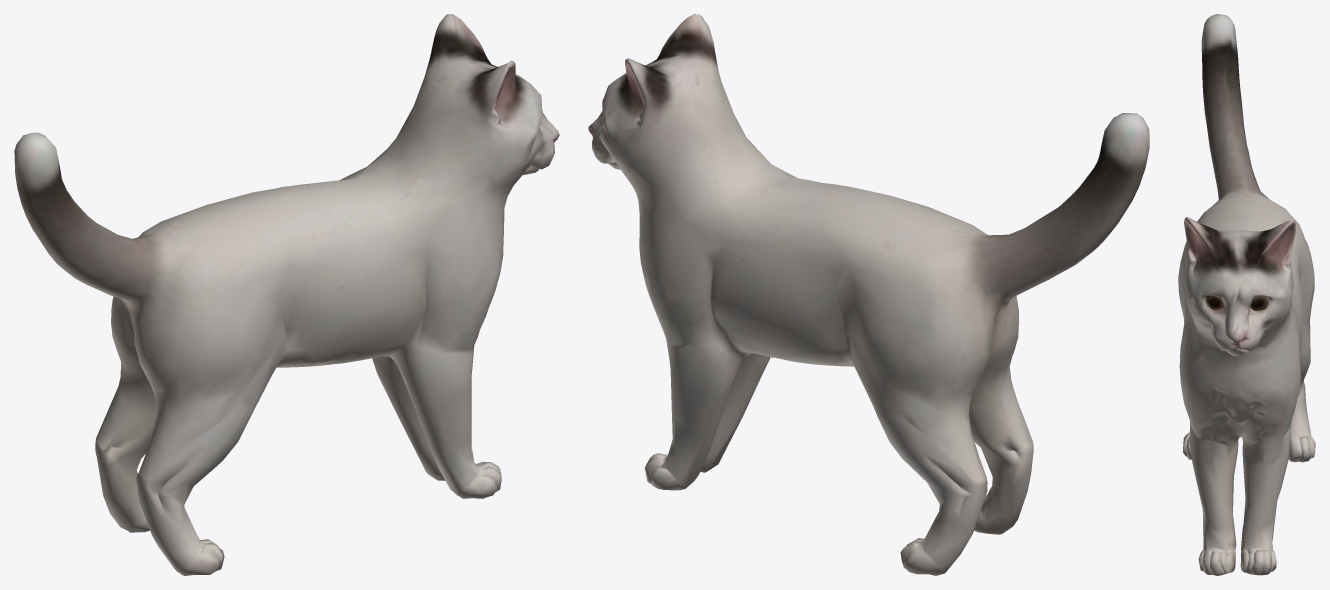
The model's file is IDPHOTO-lo.glb.
3 views of the same model, side by side, from view 1: azimuth 30°, elevation 25°; view 2: azimuth 150°, elevation 25°; view 3: azimuth 270°, elevation 25° (orthographic). The views are drawn at different scales.
Visible parts, largest first — view 1: material; view 2: material; view 3: material.
Boxes of the visible parts, box(x1,y1,x2,y2) form: material: box(14, 14, 559, 575); material: box(588, 14, 1149, 575); material: box(1178, 14, 1315, 575).
Bounding box in the file's own units: 1.24 × 0.9985 × 0.3281.
Materials: 1 (1 with a texture image).
